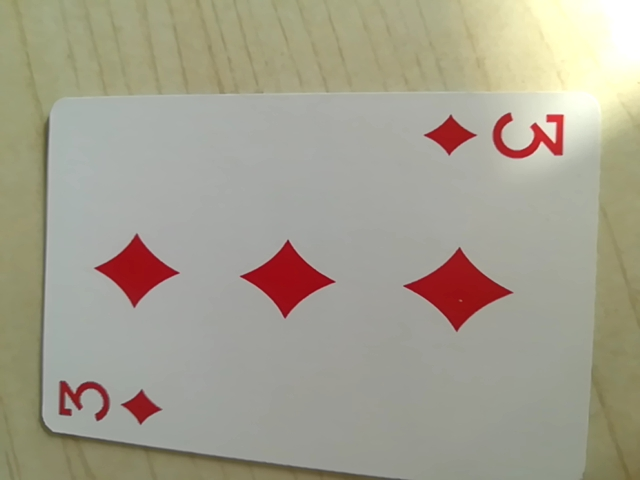fk 3: (425, 102, 565, 166), (49, 368, 166, 439)
